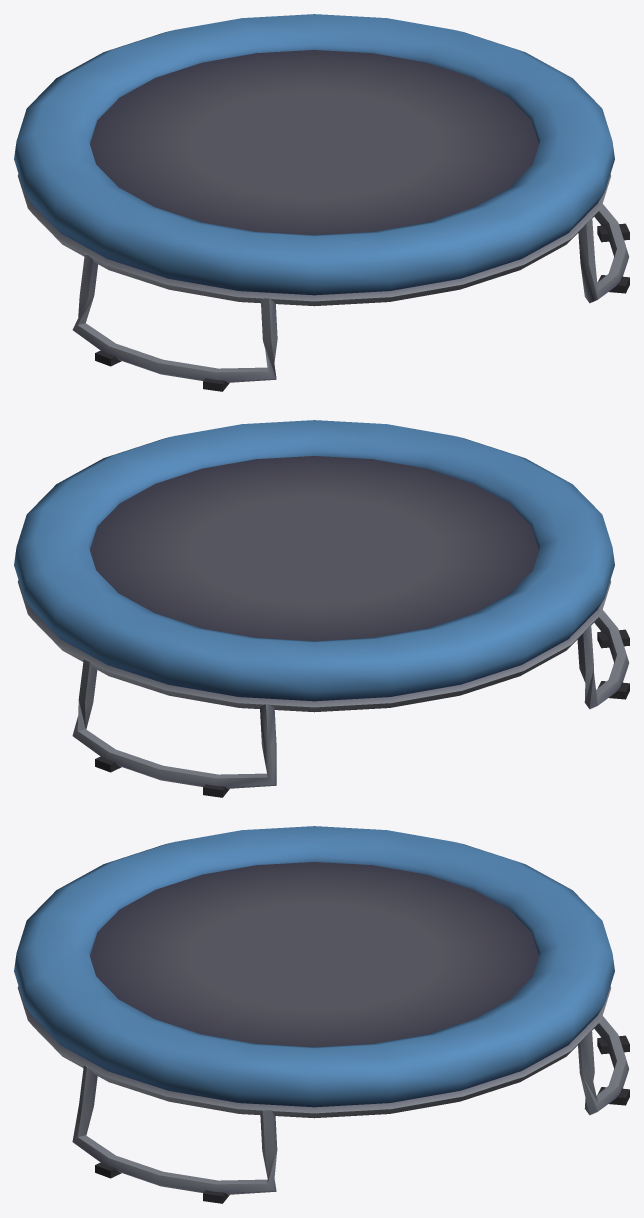
The model's file is Trampoline.fbx.
3 views of the same model, one above another, from view 1: azimuth 30°, elevation 25°; view 2: azimuth 150°, elevation 25°; view 3: azimuth 270°, elevation 25° (orthographic).
Parts seen in each view (by area): view 1: Trampoline; view 2: Trampoline; view 3: Trampoline.
Part boxes in pixels (box(x1,y1,x2,y2)): Trampoline: box(14, 14, 629, 391); Trampoline: box(14, 420, 629, 797); Trampoline: box(14, 826, 629, 1203).
Size of the model in its own units: 1.47 by 0.343 by 1.47.
